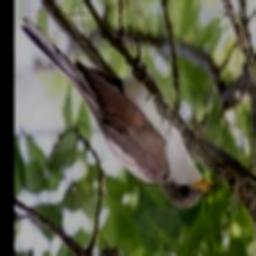Cuckoo: (21, 17, 219, 207)
